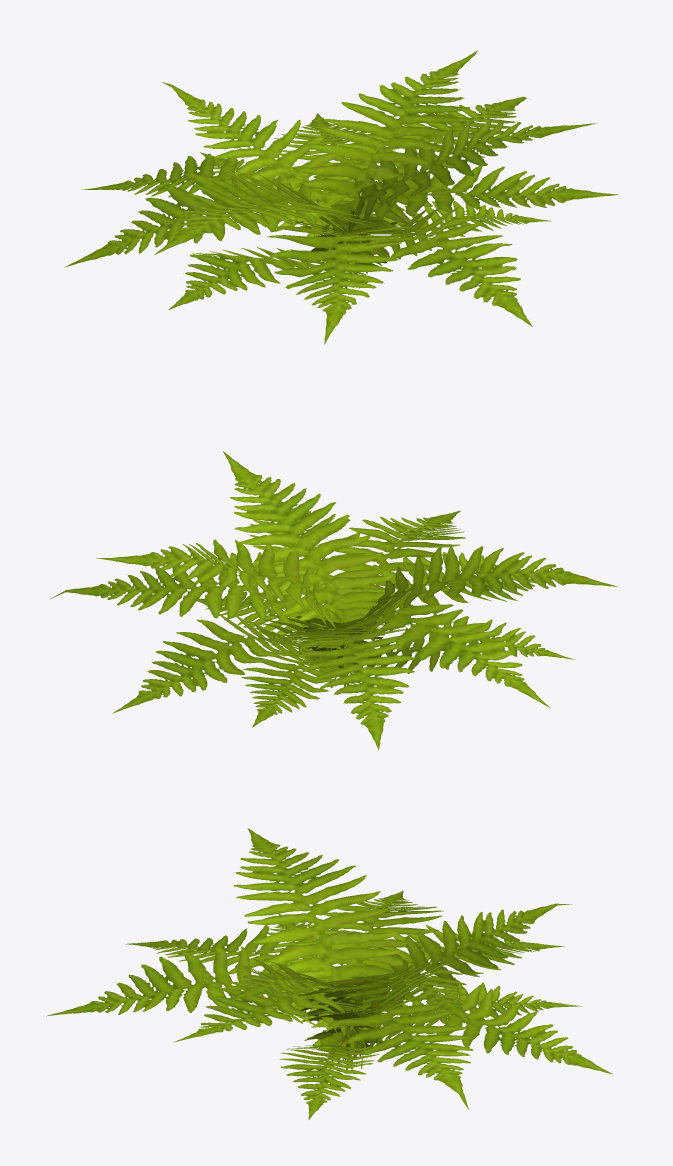
Rendered from fern-sword.lod1.glb.
3 renders of one model, top to bottom at view 1: azimuth 30°, elevation 25°; view 2: azimuth 150°, elevation 25°; view 3: azimuth 270°, elevation 25°, orthographic. The views are drawn at different scales.
Visible parts, largest first — view 1: Object_4; view 2: Object_4; view 3: Object_4.
Part boxes in pixels (<box>): Object_4: <box>64,50,618,344</box>; Object_4: <box>50,451,617,750</box>; Object_4: <box>46,828,612,1119</box>.
Size of the model in its own units: 2.81 by 0.7872 by 2.73.
Materials: 1 (1 with a texture image).
